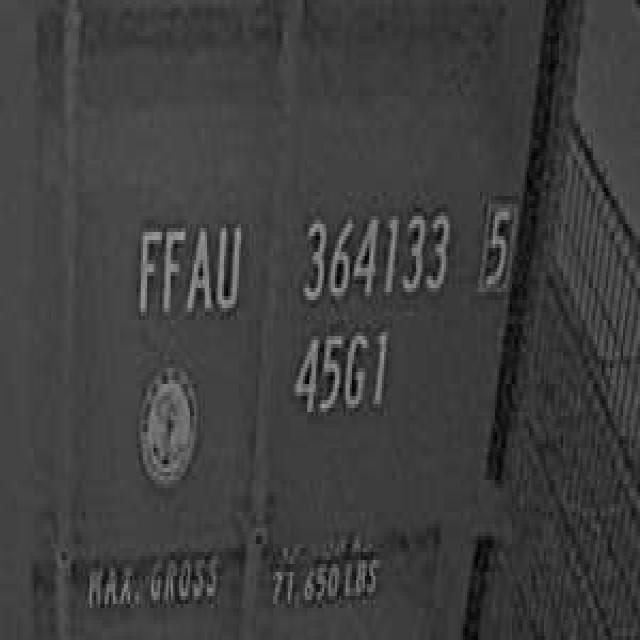dv: (474, 188, 518, 300)
owner: (128, 208, 245, 328)
serial: (296, 196, 454, 308)
size: (286, 316, 390, 428)
